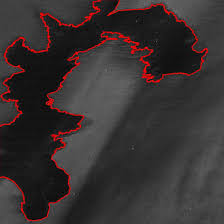anomaly: (3, 2, 214, 220)
